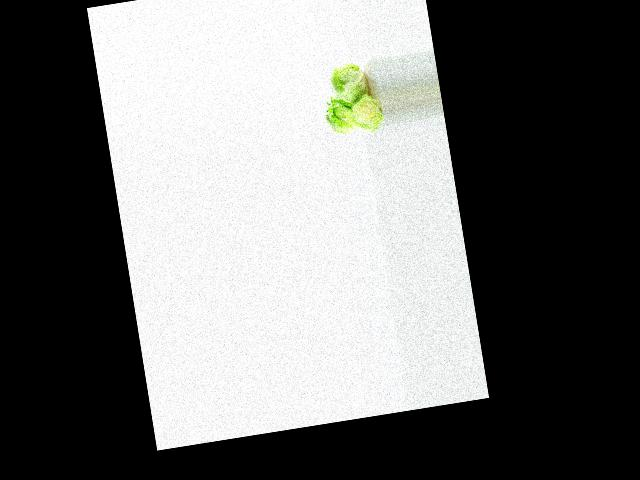lettuce: (319, 91, 359, 138)
